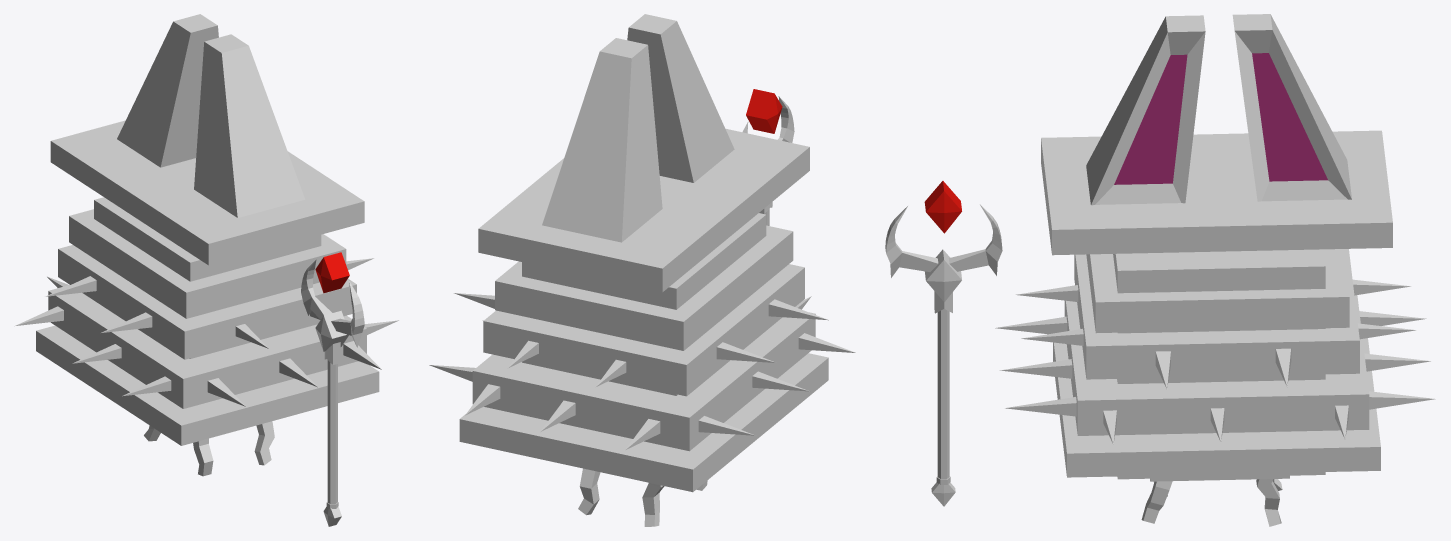
File: V+¡rus (1).fbx
3 views of the same model, side by side, from view 1: azimuth 30°, elevation 25°; view 2: azimuth 150°, elevation 25°; view 3: azimuth 270°, elevation 25° (orthographic). The views are drawn at different scales.
Parts seen in each view (by area): view 1: Boss; view 2: Boss; view 3: Boss.
Boxes of the visible parts, bbox=[...] form: Boss: bbox=[14, 14, 398, 526]; Boss: bbox=[429, 14, 855, 526]; Boss: bbox=[885, 14, 1435, 526].
Bounding box in the file's own units: 211 × 285 × 290.
